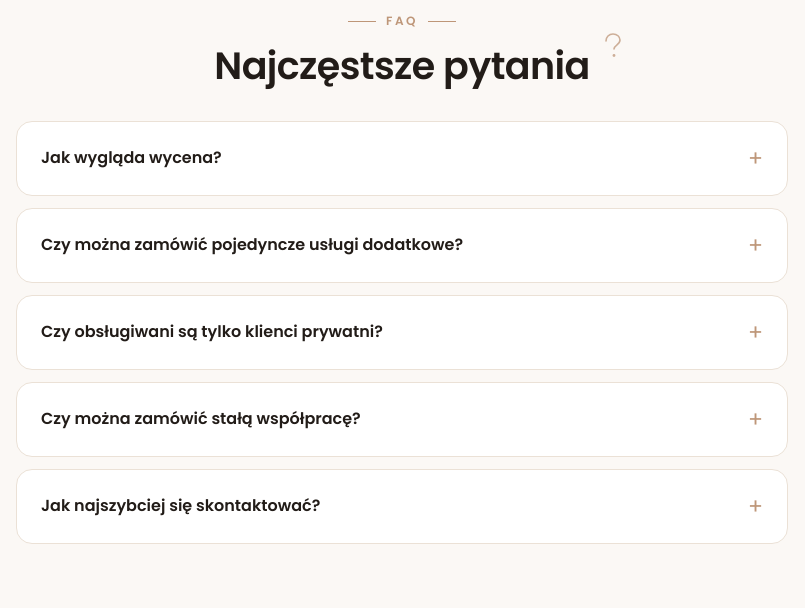
Test: clicking a question expands it and toggling collapses it
Click the button "Jak wygląda wycena? +". click: (131, 158)
box: [17,122,787,195]
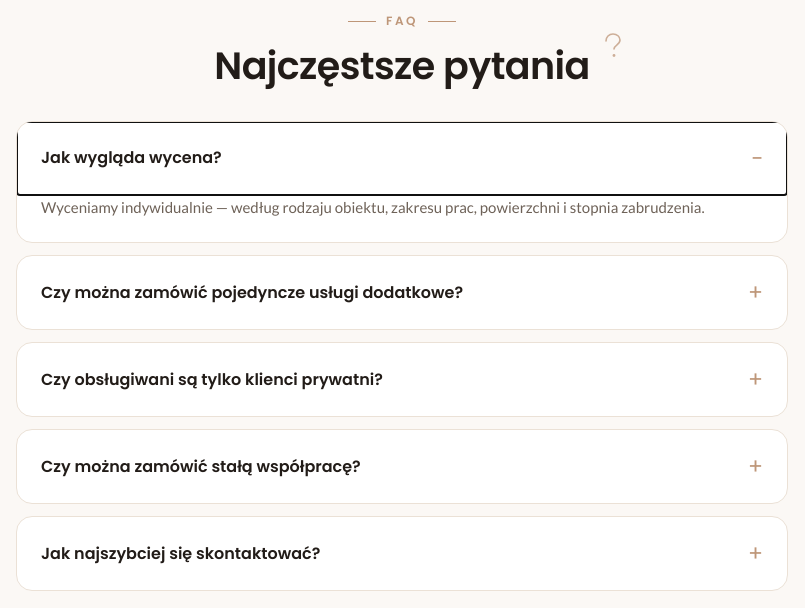
Check: the button "Jak wygląda wycena? −" is expanded
Click the button "Jak wygląda wycena? −". click: (131, 158)
box: [17,122,787,195]
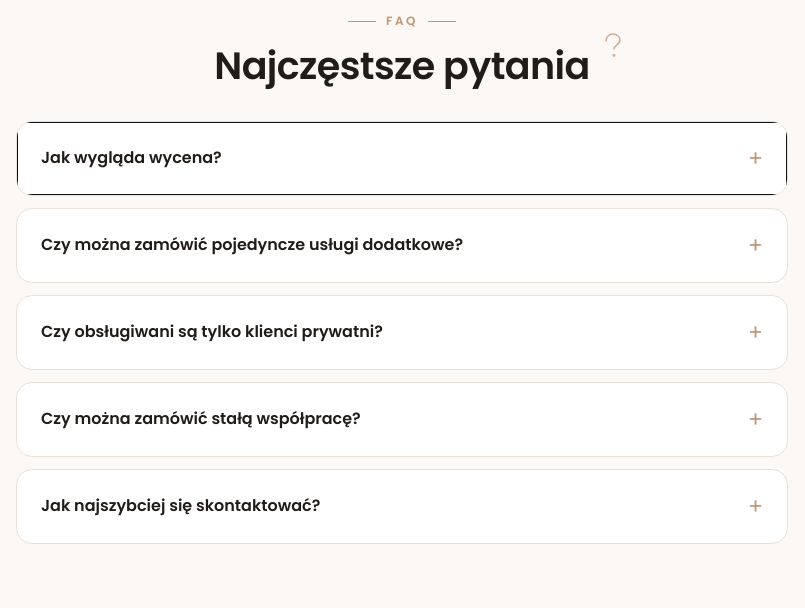
Check: the button "Jak wygląda wycena? +" is collapsed, box [17,122,787,195]
